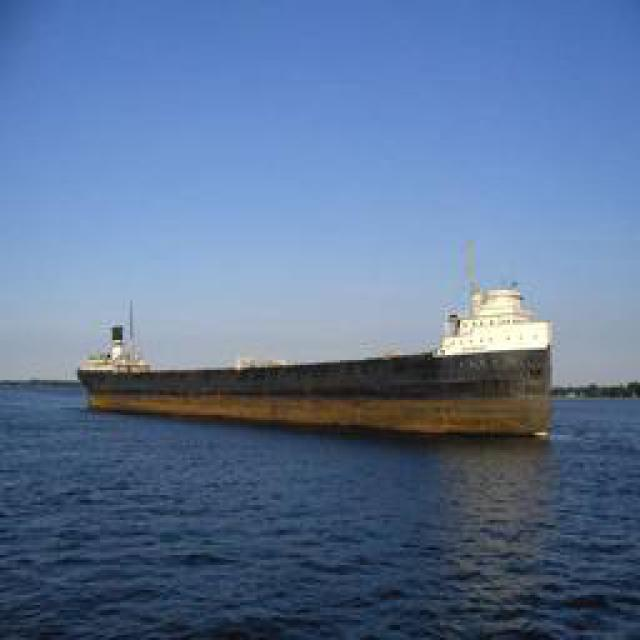Ship: (76, 266, 561, 442)
